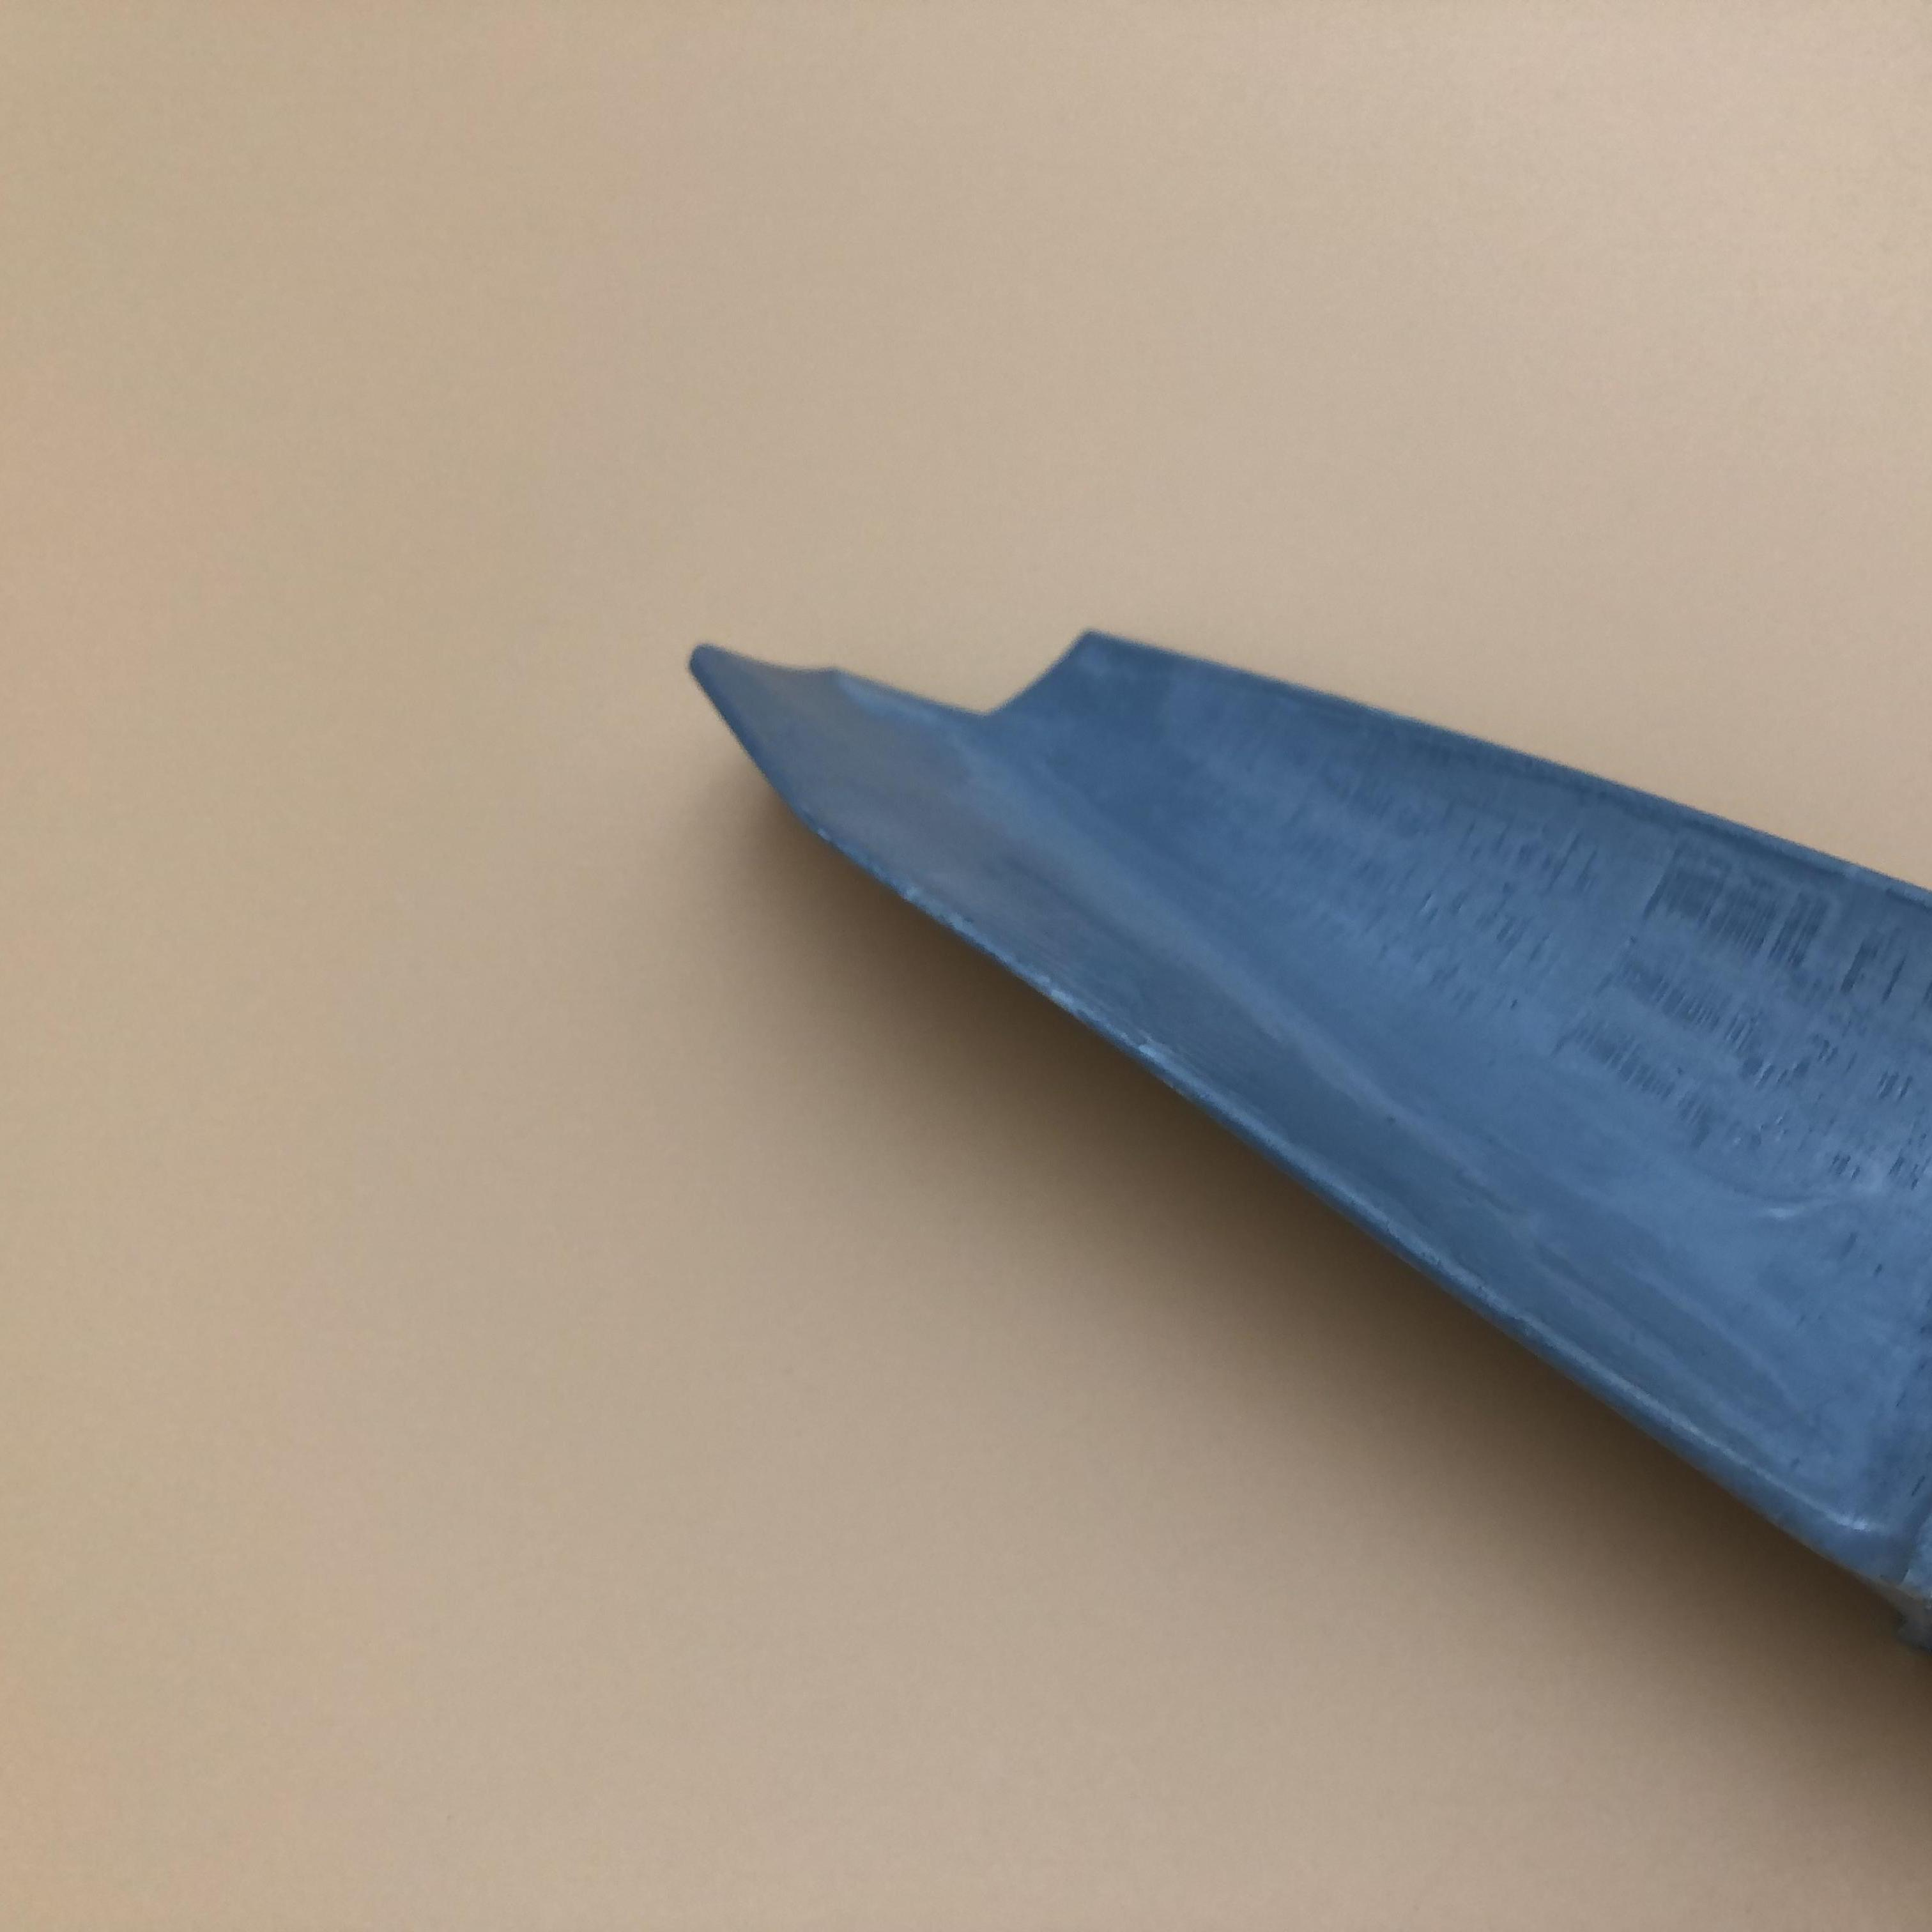fracture: (731, 617, 1111, 738)
